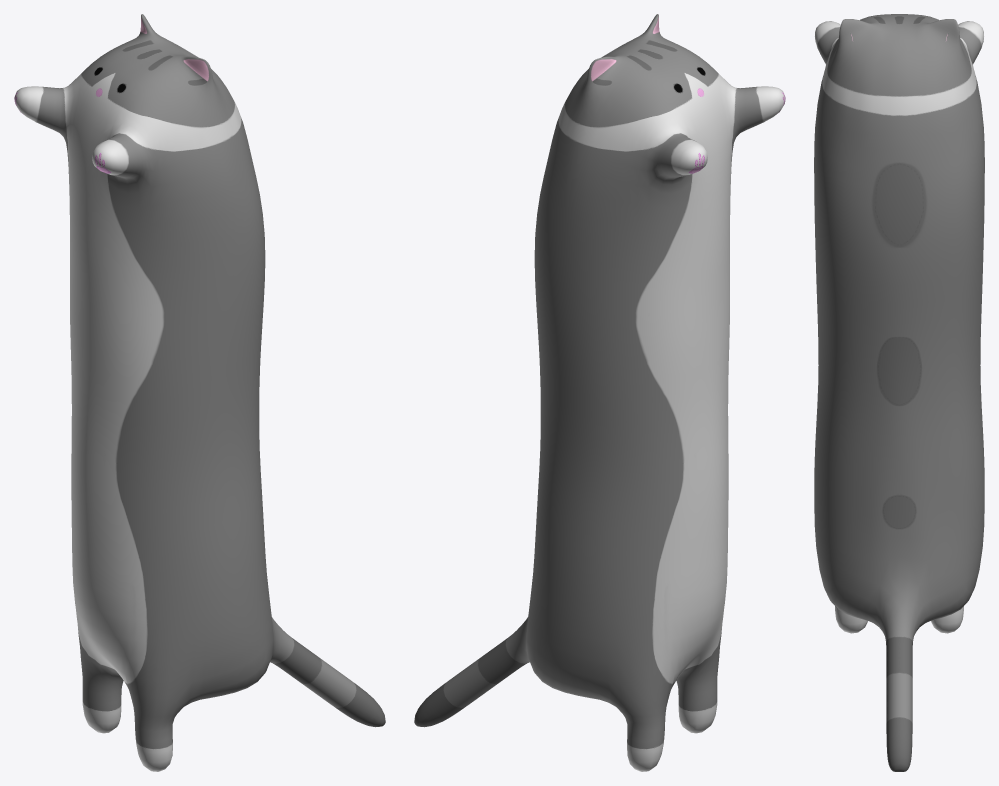
Rendered from free_-_toy_cat.glb.
3 renders of one model, left to right at view 1: azimuth 30°, elevation 25°; view 2: azimuth 150°, elevation 25°; view 3: azimuth 270°, elevation 25°, orthographic. The views are drawn at different scales.
Visible parts, largest first — view 1: Toy Cat_Toy Cat Material_0_4; view 2: Toy Cat_Toy Cat Material_0_4; view 3: Toy Cat_Toy Cat Material_0_4.
Boxes of the visible parts, left/top/right/bottom form: Toy Cat_Toy Cat Material_0_4: left=14, top=14, right=385, bottom=771; Toy Cat_Toy Cat Material_0_4: left=414, top=14, right=785, bottom=771; Toy Cat_Toy Cat Material_0_4: left=814, top=14, right=984, bottom=771.
Bounding box in the file's own units: 0.7825 × 1.68 × 0.3931.
1 material, 1 textured.
